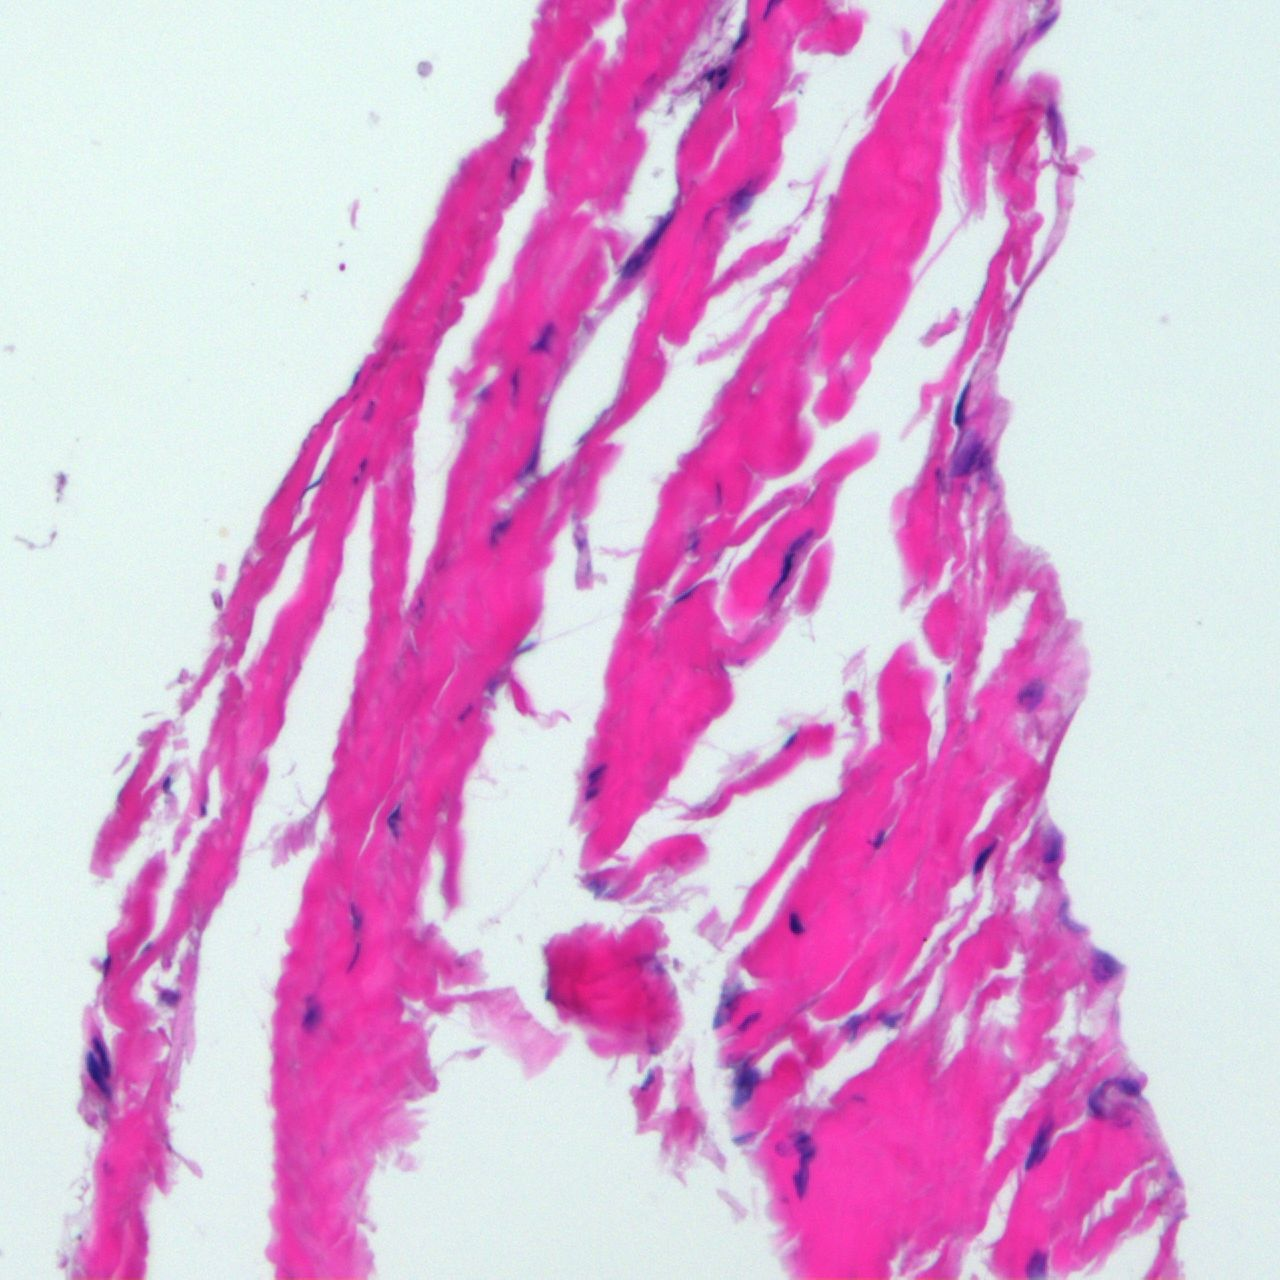nucleus-HE: (764, 522, 813, 607), (1080, 1064, 1144, 1126), (1049, 892, 1092, 945), (635, 207, 679, 256), (719, 178, 762, 224), (727, 1058, 762, 1111), (790, 1130, 816, 1200), (1019, 1122, 1054, 1173), (966, 833, 1002, 879), (81, 1049, 113, 1099), (835, 1005, 873, 1044), (1088, 947, 1125, 983), (614, 246, 651, 282), (90, 1034, 115, 1080), (527, 320, 557, 358), (483, 512, 512, 549), (726, 22, 754, 57), (733, 1006, 764, 1035), (523, 425, 542, 474), (952, 381, 971, 427), (668, 583, 700, 608), (1032, 11, 1061, 38), (452, 697, 478, 726), (583, 762, 612, 787), (301, 996, 320, 1034), (1042, 830, 1061, 866), (1024, 1250, 1046, 1280), (346, 941, 363, 978), (1008, 29, 1032, 54), (636, 1068, 658, 1095), (874, 1012, 904, 1030), (579, 783, 602, 804), (387, 804, 401, 839), (869, 826, 887, 852), (1048, 102, 1058, 148), (787, 911, 804, 937), (510, 367, 520, 409), (360, 399, 377, 423), (779, 731, 799, 753), (159, 986, 181, 1005), (687, 527, 700, 553), (350, 904, 361, 934), (714, 478, 723, 509), (509, 155, 519, 182), (714, 63, 731, 79), (715, 75, 730, 91), (349, 372, 362, 388), (159, 775, 171, 791), (993, 66, 1001, 87), (103, 954, 110, 975), (706, 69, 715, 83), (359, 458, 367, 474), (200, 801, 207, 815), (352, 475, 359, 485)
